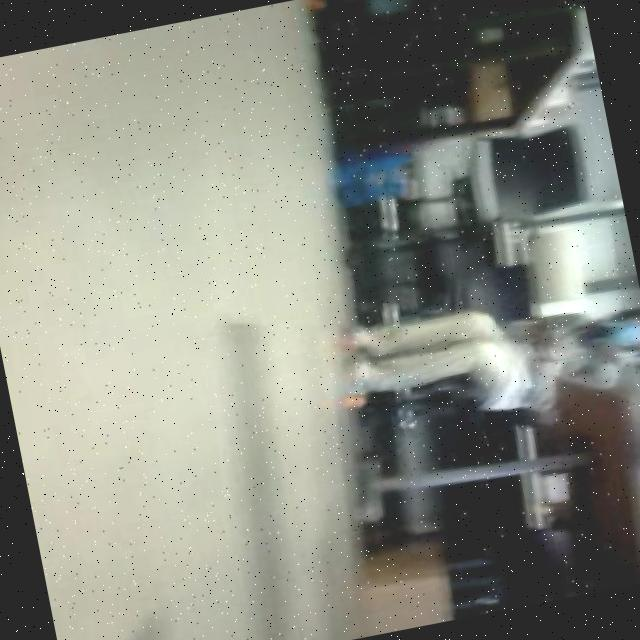ping-pong-ball: (338, 388, 370, 411)
